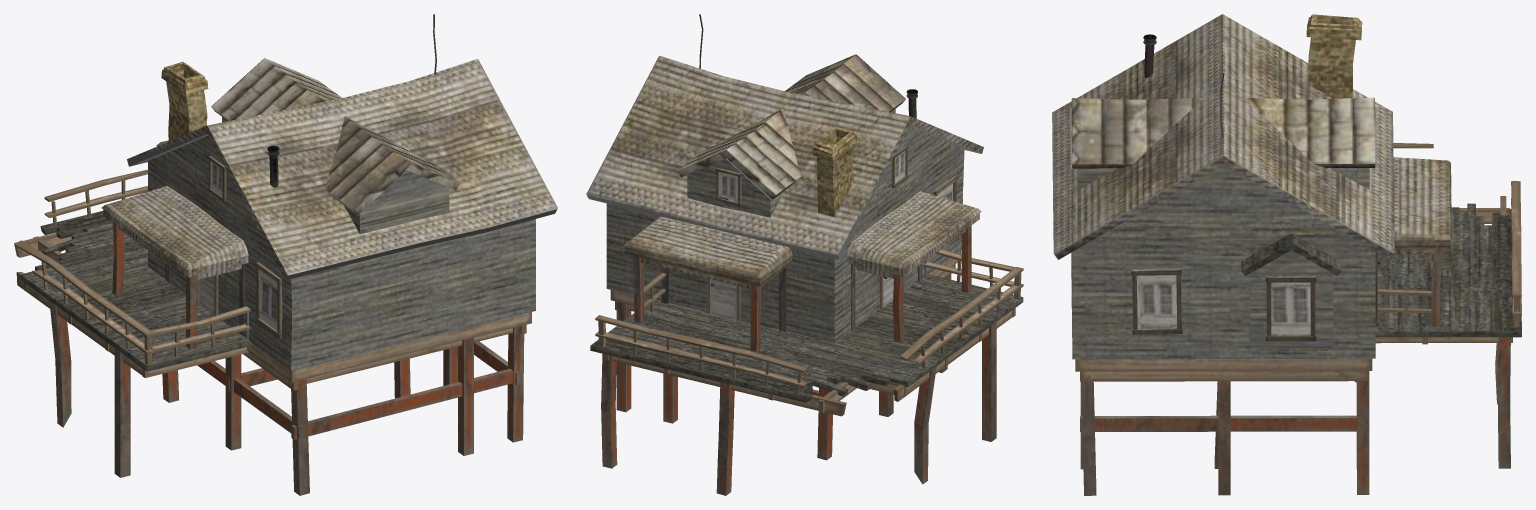
The model's file is cliff_small.glb.
3 views of the same model, side by side, from view 1: azimuth 30°, elevation 25°; view 2: azimuth 150°, elevation 25°; view 3: azimuth 270°, elevation 25° (orthographic). The views are drawn at different scales.
Parts seen in each view (by area): view 1: Cube_014_house_0; view 2: Cube_014_house_0; view 3: Cube_014_house_0.
Boxes of the visible parts, x1=… form: Cube_014_house_0: x1=14, y1=14, x2=557, y2=495; Cube_014_house_0: x1=586, y1=14, x2=1023, y2=495; Cube_014_house_0: x1=1052, y1=14, x2=1521, y2=495.
Size of the model in its own units: 79.66 by 78.7 by 81.7.
1 material, 1 textured.
